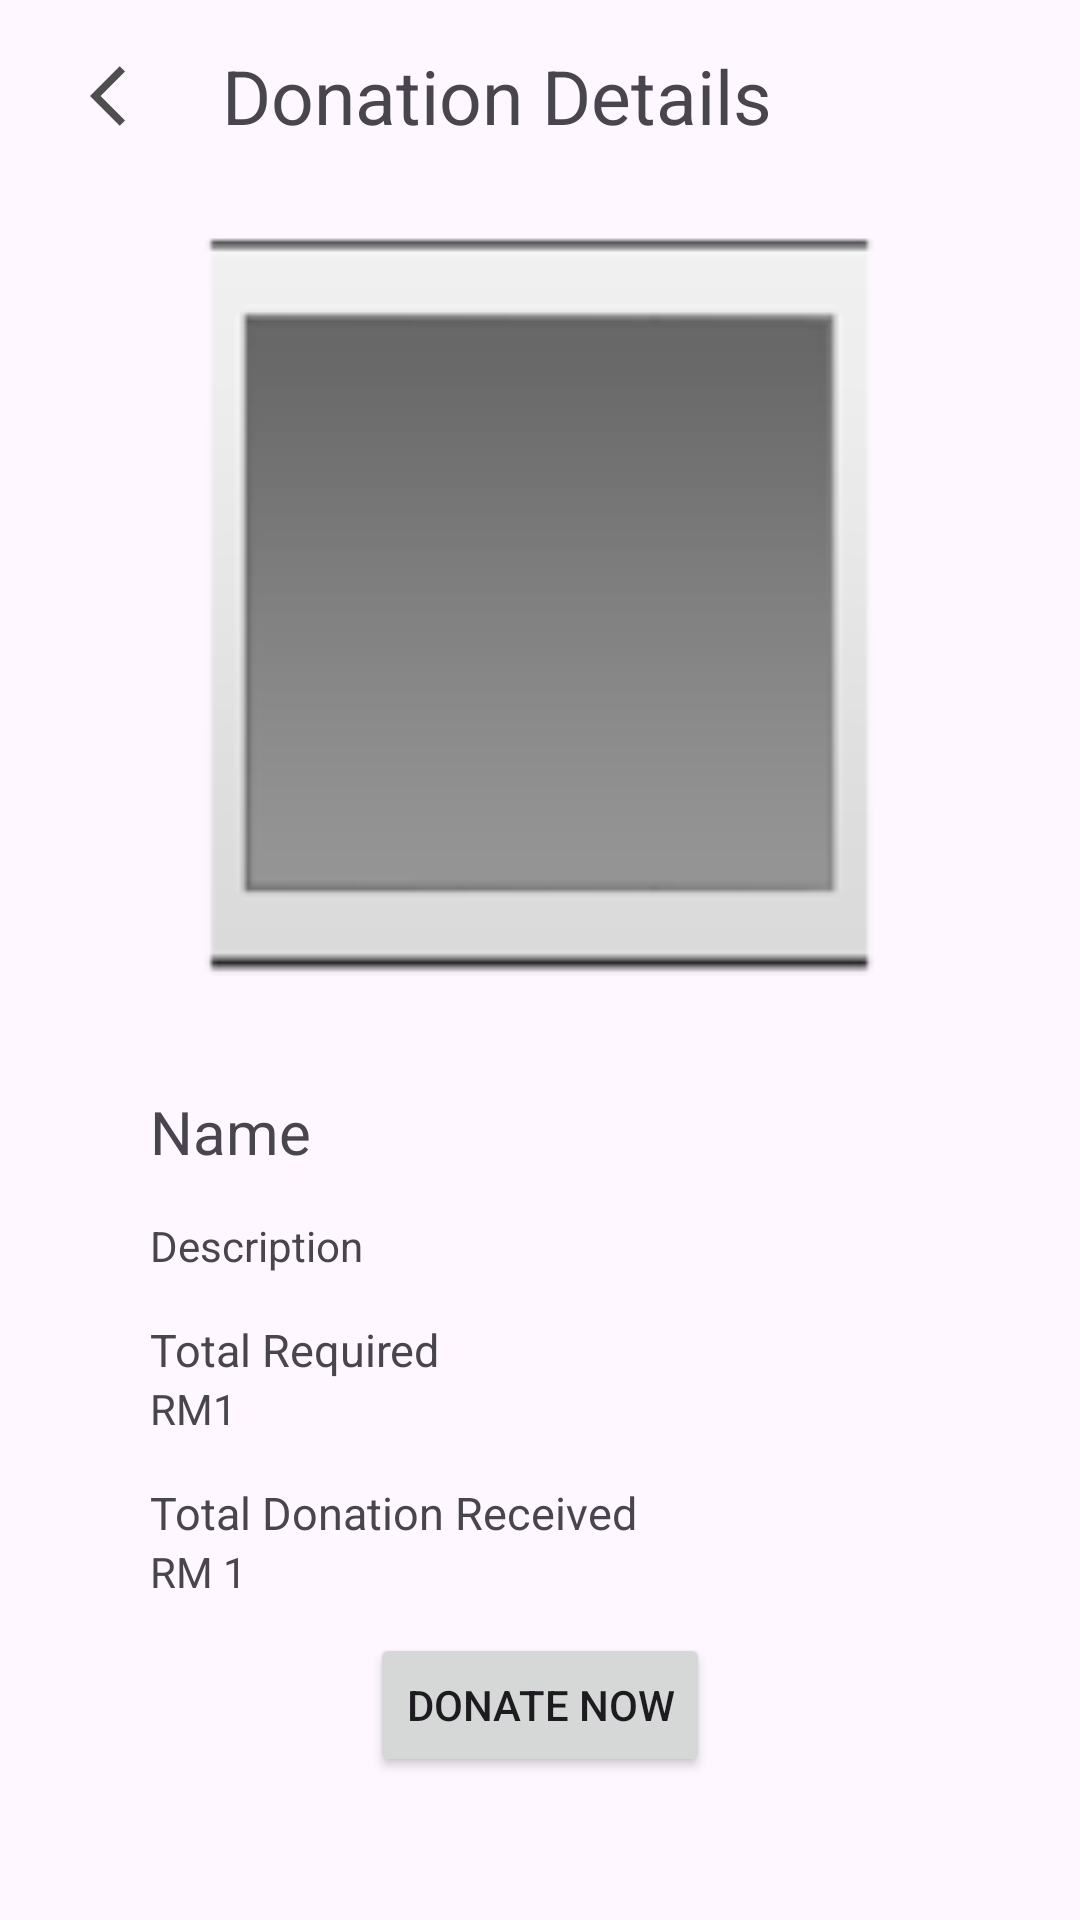

Where to tap for icons on this 1080px x 1920px app screen, as (x,y):
arrow back: (107,96)
